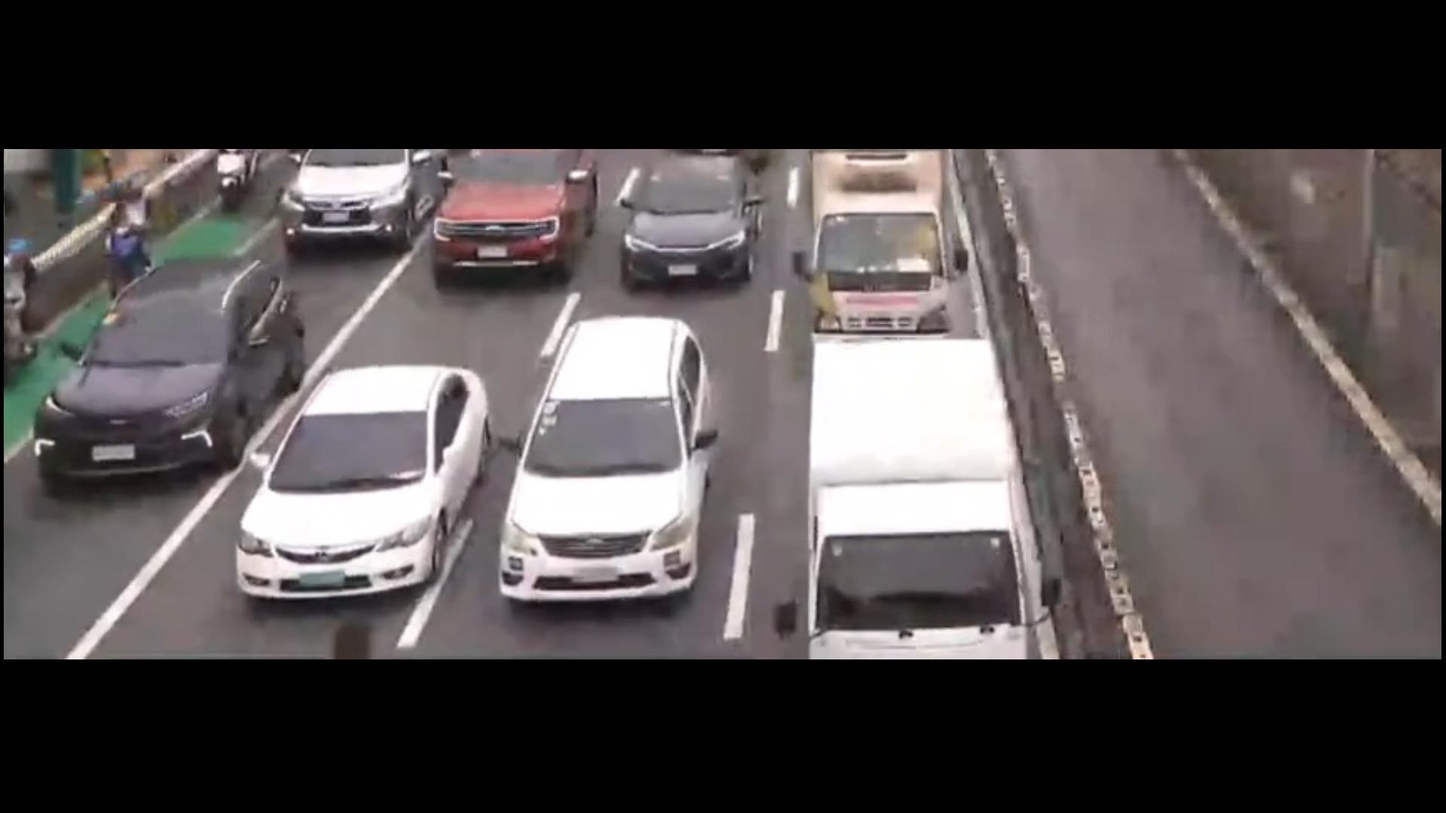Motorcycle: (178, 149, 279, 233), (0, 237, 59, 376), (95, 170, 166, 277)
SUV: (4, 232, 322, 514), (461, 313, 744, 614), (438, 142, 601, 283)
Sedan: (214, 339, 511, 621), (617, 149, 782, 299)
Truck: (786, 330, 1032, 657), (795, 132, 1013, 344)
